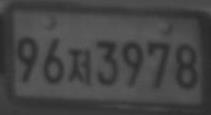3: (96, 40, 118, 86)
6: (43, 38, 64, 84)
7: (147, 42, 170, 87)
8: (174, 44, 197, 88)
9: (16, 36, 38, 82), (122, 42, 143, 86)
저: (67, 48, 91, 86)
